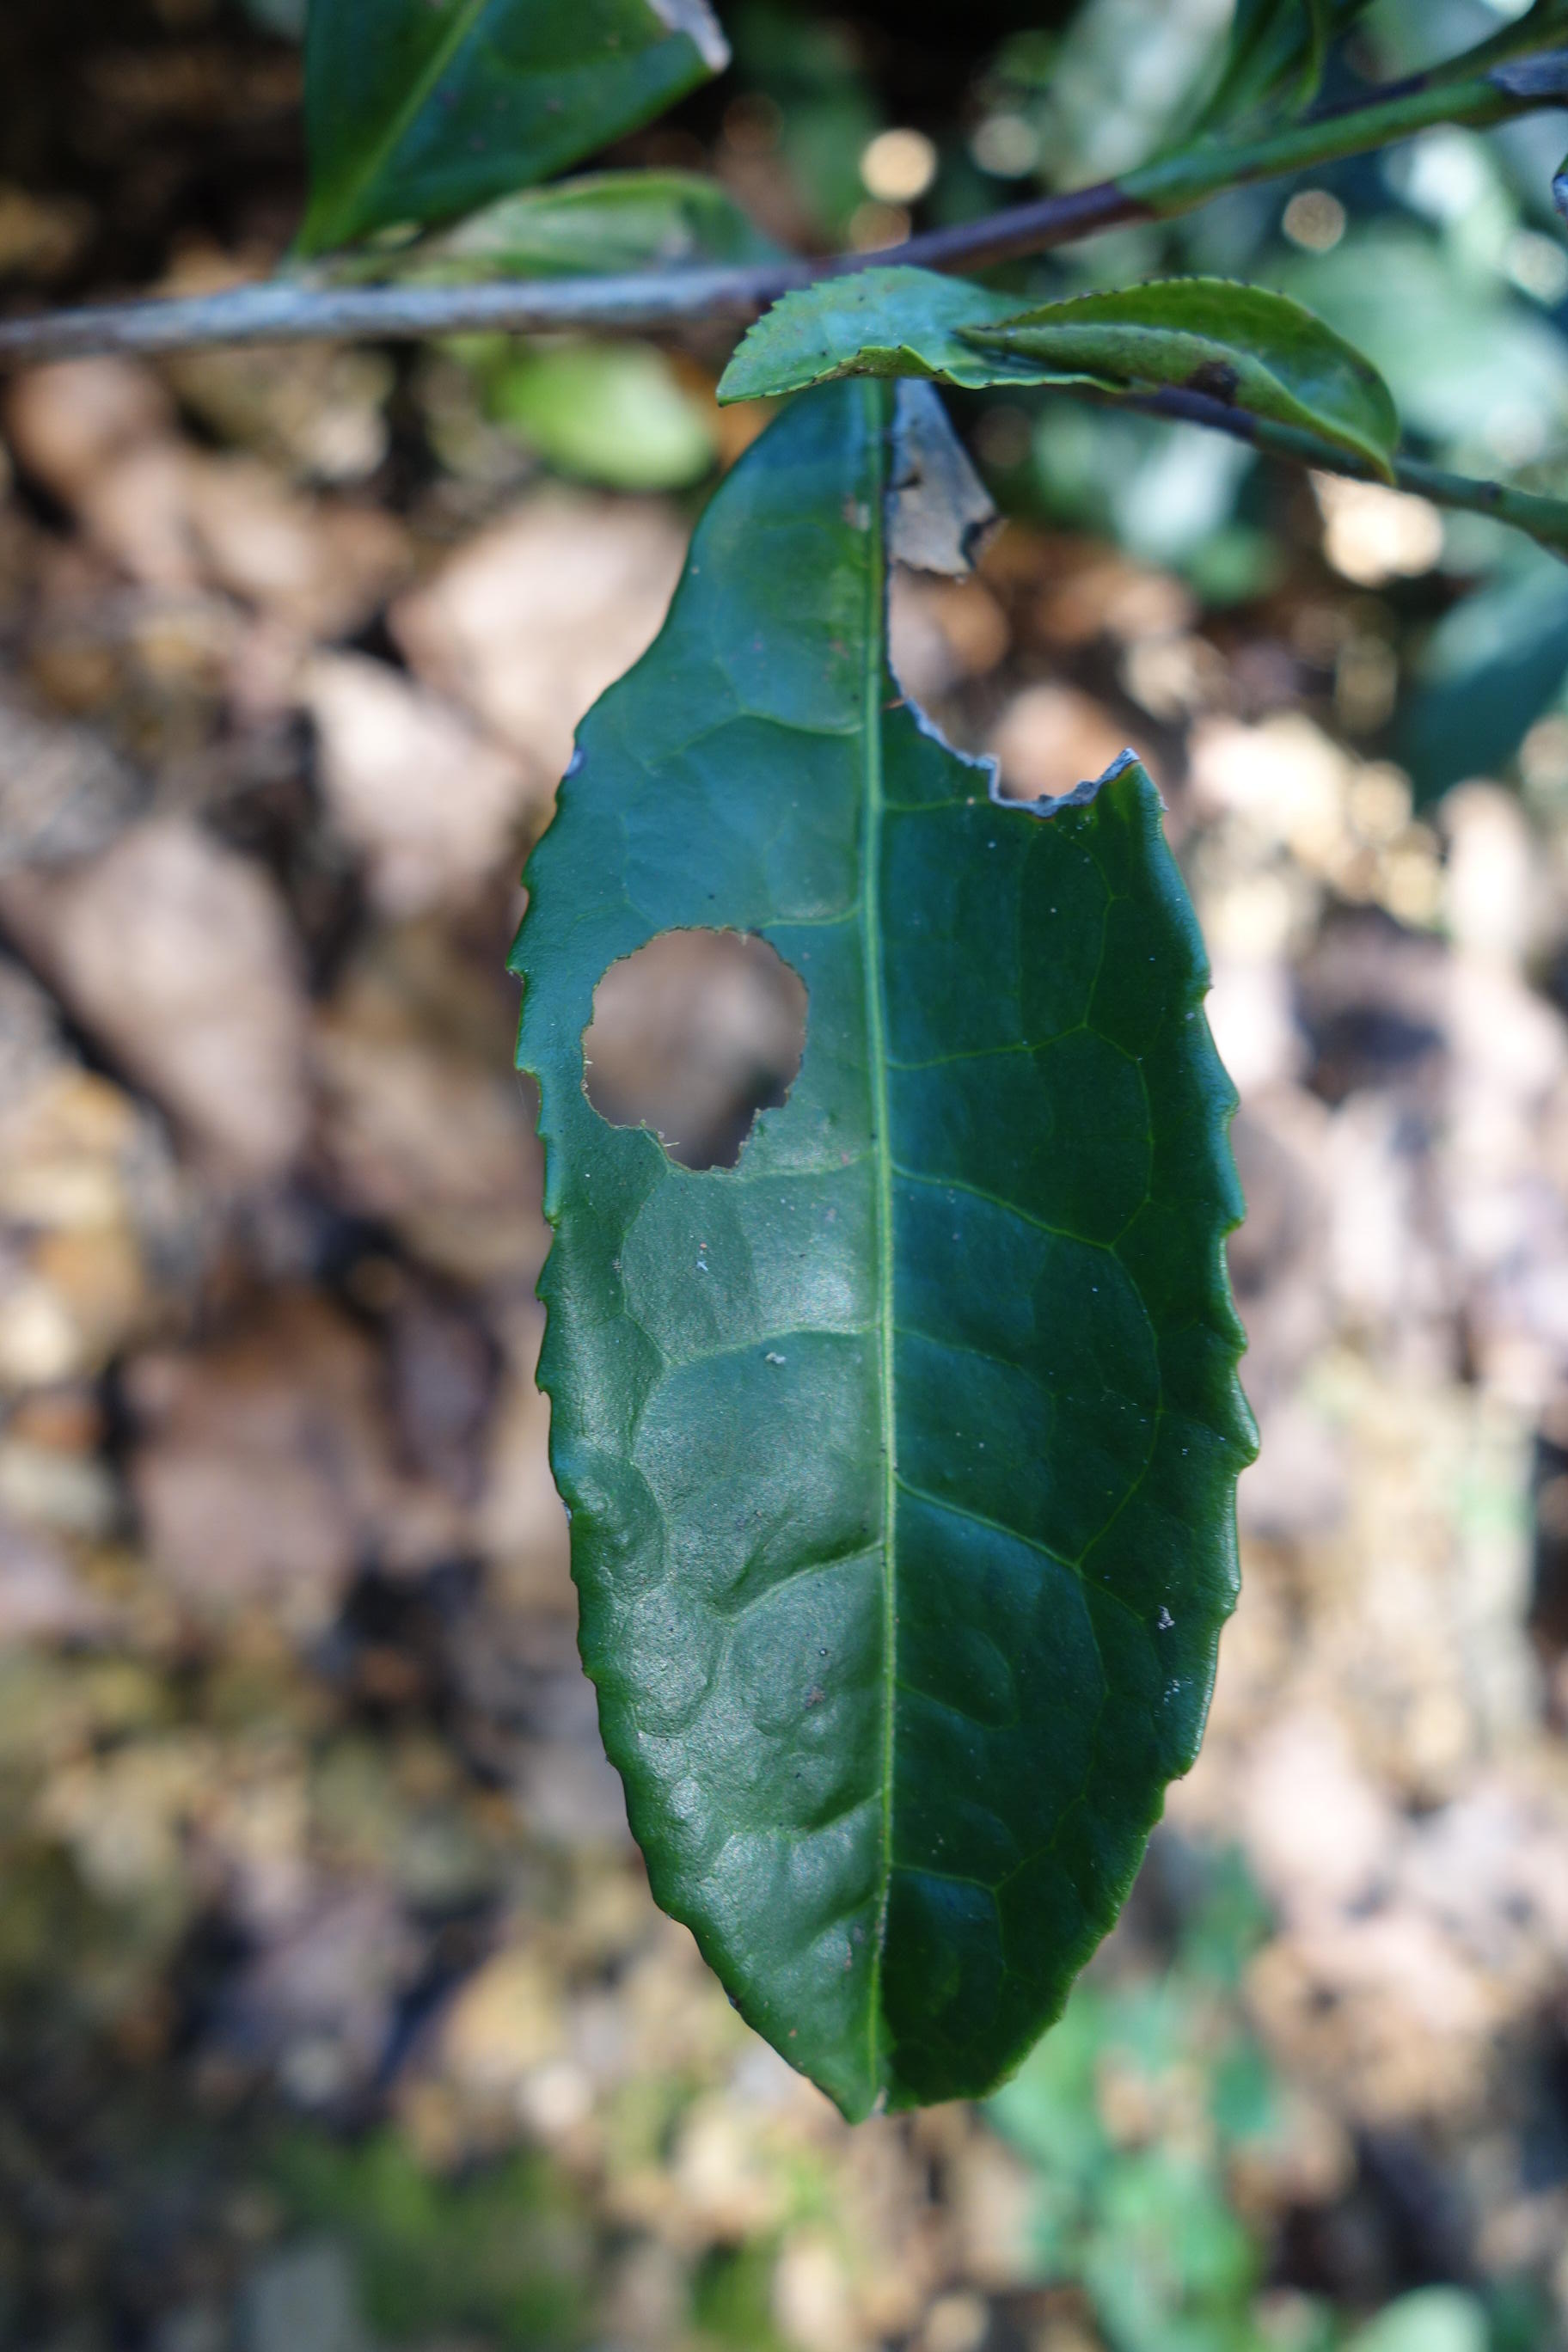chihuo_high: (509, 383, 1265, 2131)
